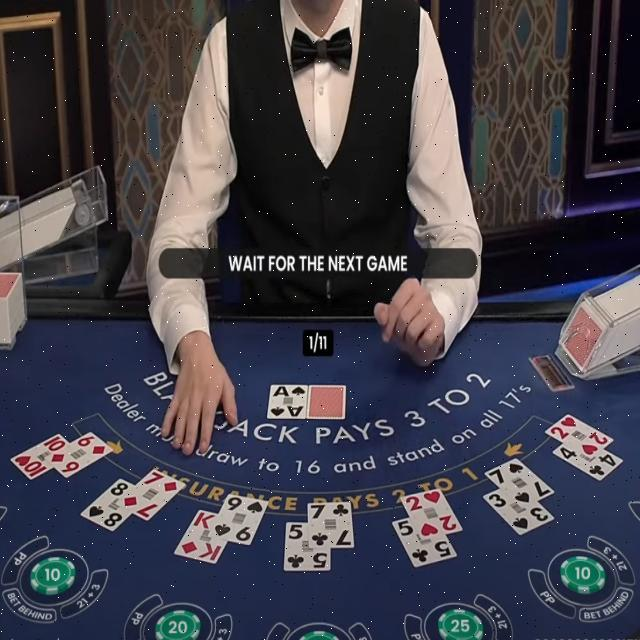Card-10: (10, 433, 69, 480)
Card-2: (400, 488, 463, 540), (545, 413, 614, 458)
Card-3: (482, 489, 555, 536)
Card-4: (552, 443, 623, 482)
Card-5: (391, 518, 457, 568), (285, 522, 331, 571)
Card-6: (45, 431, 113, 479)
Card-7: (484, 457, 554, 508), (118, 468, 185, 521), (308, 502, 354, 548)
Card-8: (80, 477, 134, 532)
Card-9: (208, 493, 268, 546)
Card-A: (267, 384, 308, 419)
Card-K: (174, 509, 227, 565)
